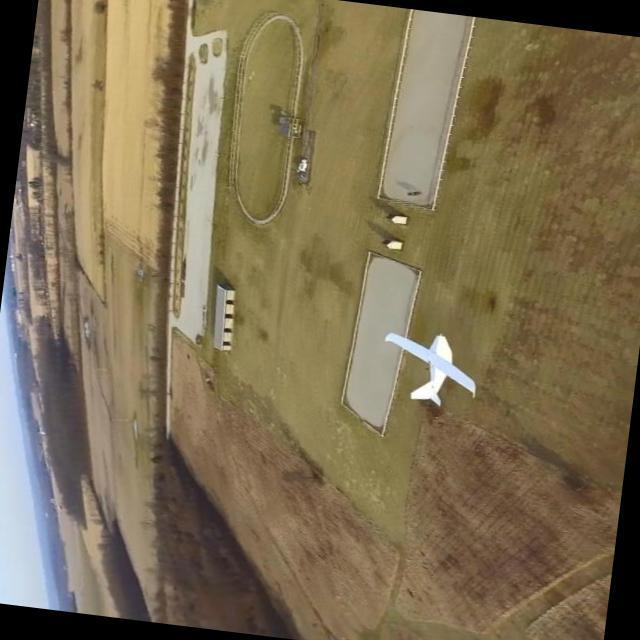iha: (362, 310, 530, 461)
